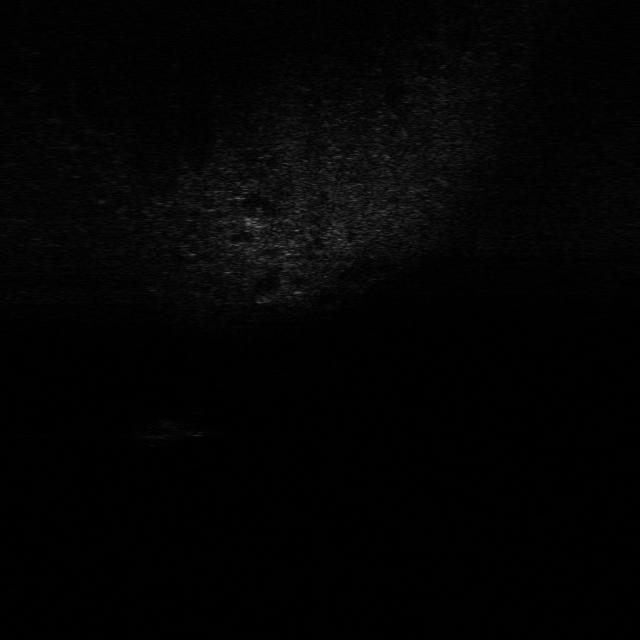ball: (176, 411, 220, 439)
circle cage: (134, 417, 180, 450)
